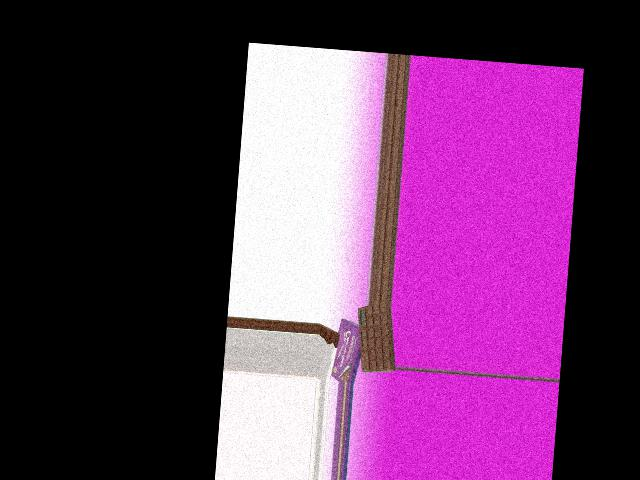chocolate: (351, 307, 400, 373)
